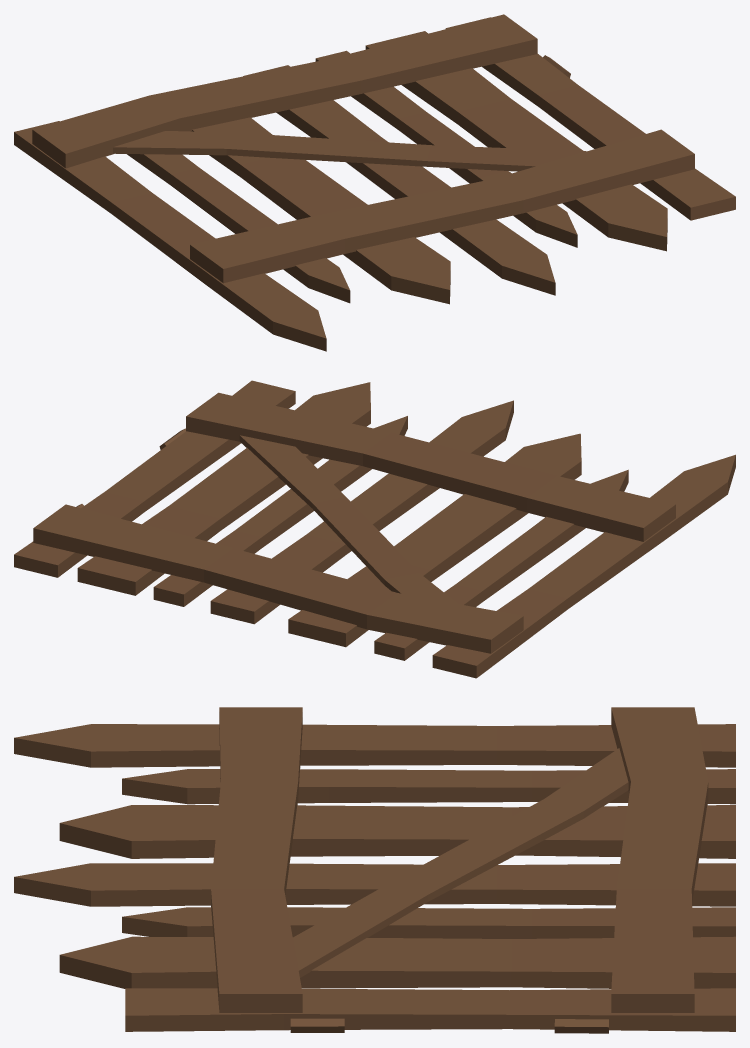
Rendered from Barrier_01_Right_portion.fbx.
3 views of the same model, one above another, from view 1: azimuth 30°, elevation 25°; view 2: azimuth 150°, elevation 25°; view 3: azimuth 270°, elevation 25° (orthographic). The views are drawn at different scales.
Parts seen in each view (by area): view 1: barriere_1.bord droit portillon; view 2: barriere_1.bord droit portillon; view 3: barriere_1.bord droit portillon.
Part boxes in pixels (bbox=[...]): barriere_1.bord droit portillon: bbox=[14, 14, 735, 351]; barriere_1.bord droit portillon: bbox=[14, 380, 735, 678]; barriere_1.bord droit portillon: bbox=[14, 707, 735, 1033].
Bounding box in the file's own units: 102 × 5.78 × 105.
